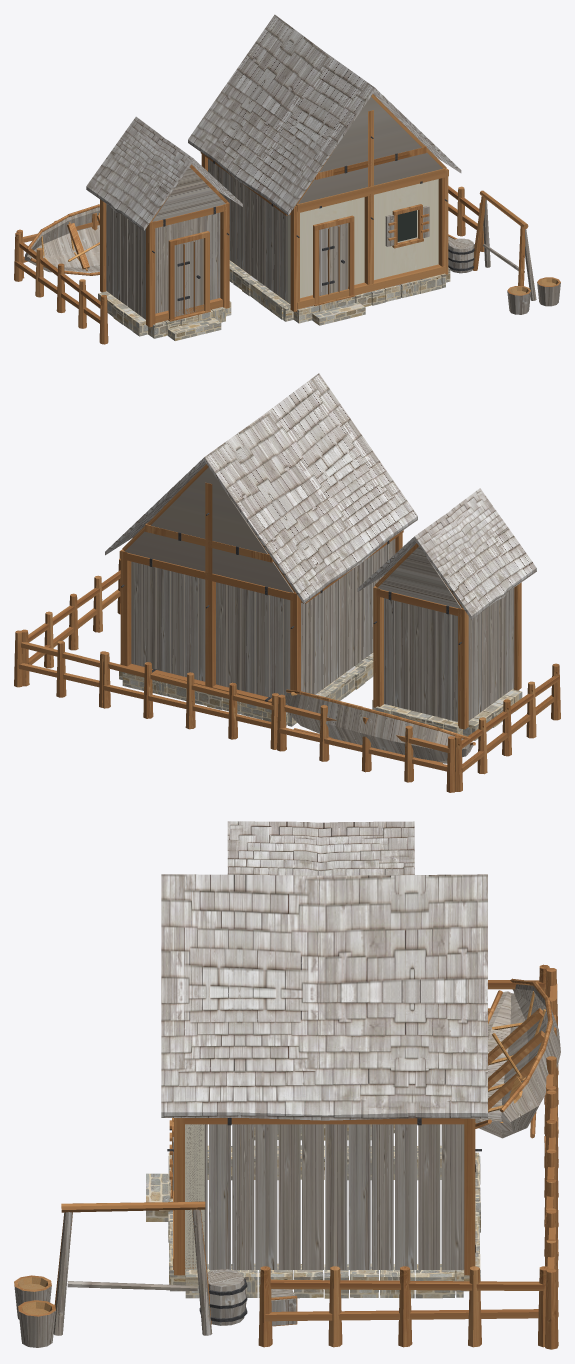
File: fishing_camp_textured_v5.glb
3 renders of one model, top to bottom at view 1: azimuth 30°, elevation 25°; view 2: azimuth 150°, elevation 25°; view 3: azimuth 270°, elevation 25°, orthographic. The views are drawn at different scales.
Parts seen in each view (by area): view 1: FC_Main_Roof_Left, FC_Shed_Roof_Left, FC_Main_Front_Gable, FC_Main_Front_Window_Host, FC_Main_Left_Plank_Wall, FC_Main_Front_Door_Host, FC_Shed_Left_Wall, FC_Leaning_River_Dugout, FC_Shed_Service_Door, FC_Main_Service_Door, FC_Shed_Front_Door_Host, FC_Fence_West (+23 smaller); view 2: FC_Main_Roof_Left, FC_Main_Rear_Plank_Wall, FC_Shed_Roof_Left, FC_Main_Rear_Gable, FC_Shed_Rear_Wall, FC_Main_Left_Plank_Wall, FC_Leaning_River_Dugout, FC_Shed_Left_Wall, FC_Fence_Rear_Centre, FC_Fence_Rear_West, FC_Fence_West, FC_Fence_East (+19 smaller); view 3: FC_Main_Roof_Right, FC_Main_Right_Plank_Wall, FC_Shed_Roof_Right, FC_Fence_East, FC_Leaning_River_Dugout, FC_Fish_Drying_Rack, FC_Main_Foundation_Right, FC_Wash_Buckets, FC_Main_Front_Window_Host, FC_Brine_Barrel, FC_Main_Rear_Post_3, FC_Fence_Rear_Centre (+8 smaller).
Boxes of the visible parts, <box> form: FC_Main_Roof_Left: <box>188,14,374,215</box>; FC_Shed_Roof_Left: <box>86,116,193,230</box>; FC_Main_Front_Gable: <box>295,94,446,205</box>; FC_Main_Front_Window_Host: <box>371,168,445,291</box>; FC_Main_Left_Plank_Wall: <box>208,159,287,302</box>; FC_Main_Front_Door_Host: <box>287,186,371,309</box>; FC_Shed_Left_Wall: <box>106,204,145,319</box>; FC_Leaning_River_Dugout: <box>24,204,99,275</box>; FC_Shed_Service_Door: <box>168,231,210,321</box>; FC_Main_Service_Door: <box>313,215,355,306</box>; FC_Shed_Front_Door_Host: <box>155,212,222,323</box>; FC_Fence_West: <box>14,232,108,344</box>; FC_Main_Roof_Left: <box>204,373,417,603</box>; FC_Main_Rear_Plank_Wall: <box>131,561,290,697</box>; FC_Shed_Roof_Left: <box>414,488,536,619</box>; FC_Main_Rear_Gable: <box>122,464,295,592</box>; FC_Shed_Rear_Wall: <box>384,598,457,721</box>; FC_Main_Left_Plank_Wall: <box>301,538,395,694</box>; FC_Leaning_River_Dugout: <box>285,689,475,763</box>; FC_Shed_Left_Wall: <box>468,588,513,720</box>; FC_Fence_Rear_Centre: <box>102,651,278,749</box>; FC_Fence_Rear_West: <box>277,694,455,792</box>; FC_Fence_West: <box>455,663,560,791</box>; FC_Fence_East: <box>21,558,120,686</box>; FC_Main_Roof_Right: <box>161,874,487,1120</box>; FC_Main_Right_Plank_Wall: <box>185,1124,463,1269</box>; FC_Shed_Roof_Right: <box>227,821,414,875</box>; FC_Fence_East: <box>258,1266,549,1347</box>; FC_Leaning_River_Dugout: <box>475,978,560,1138</box>; FC_Fish_Drying_Rack: <box>53,1201,212,1335</box>; FC_Main_Foundation_Right: <box>185,1263,463,1298</box>; FC_Wash_Buckets: <box>14,1275,55,1347</box>; FC_Main_Front_Window_Host: <box>173,1124,204,1269</box>; FC_Brine_Barrel: <box>199,1269,247,1325</box>; FC_Main_Rear_Post_3: <box>464,1118,481,1275</box>; FC_Fence_Rear_Centre: <box>544,1090,558,1282</box>.
Bounding box in the file's own units: 10.51 × 5.69 × 7.84.
15 materials, 14 textured.
